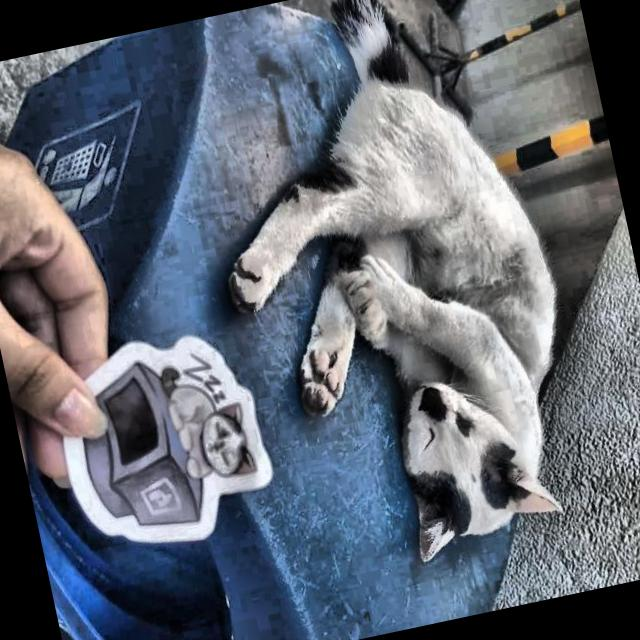Healthy skin: (355, 169, 536, 405), (395, 440, 562, 564), (276, 301, 378, 425)
